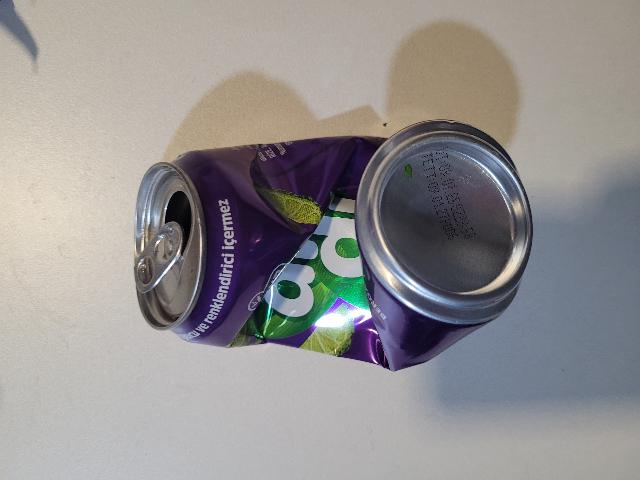Metal: (116, 110, 538, 377)
